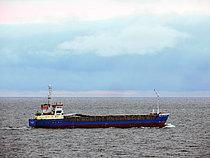Ship: (25, 81, 175, 133)
